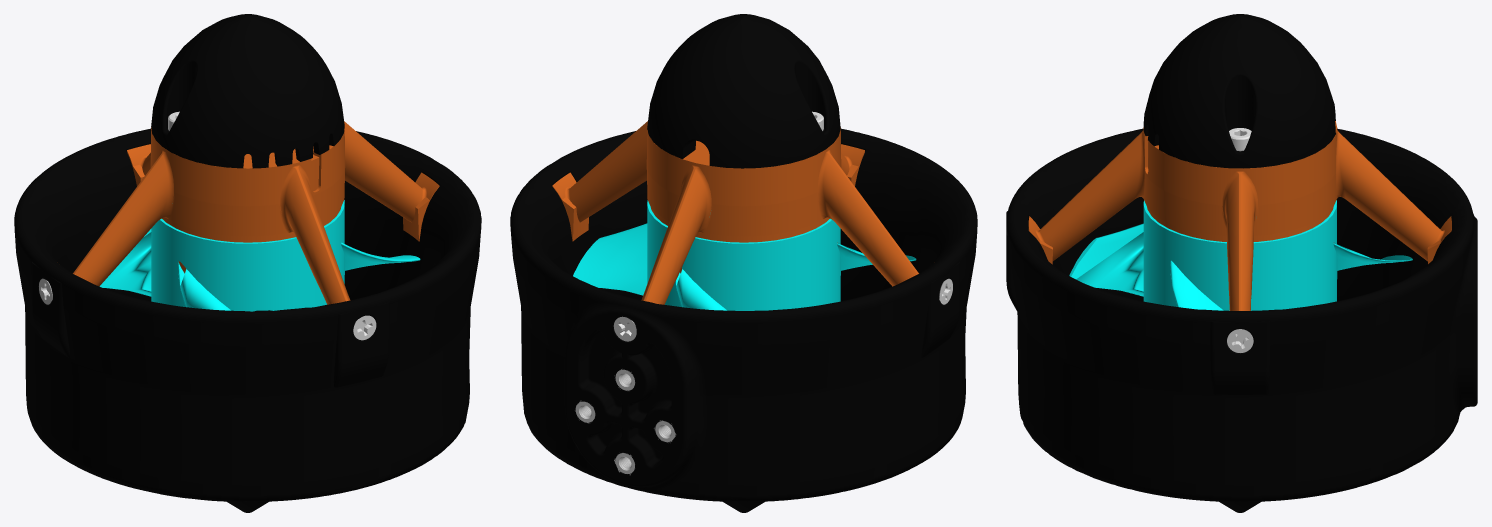
The model's file is prop.glb.
3 views of the same model, side by side, from view 1: azimuth 30°, elevation 25°; view 2: azimuth 150°, elevation 25°; view 3: azimuth 270°, elevation 25° (orthographic).
Visible parts, largest first — view 1: SOLID (×4); view 2: SOLID (×4); view 3: SOLID (×4).
Boxes of the visible parts, box(x1,y1,x2,y2) form: SOLID (×4): box(14, 14, 481, 512); SOLID (×4): box(510, 14, 977, 512); SOLID (×4): box(1006, 14, 1477, 512).
Bounding box in the file's own units: 0.0966 × 0.1127 × 0.0973.
